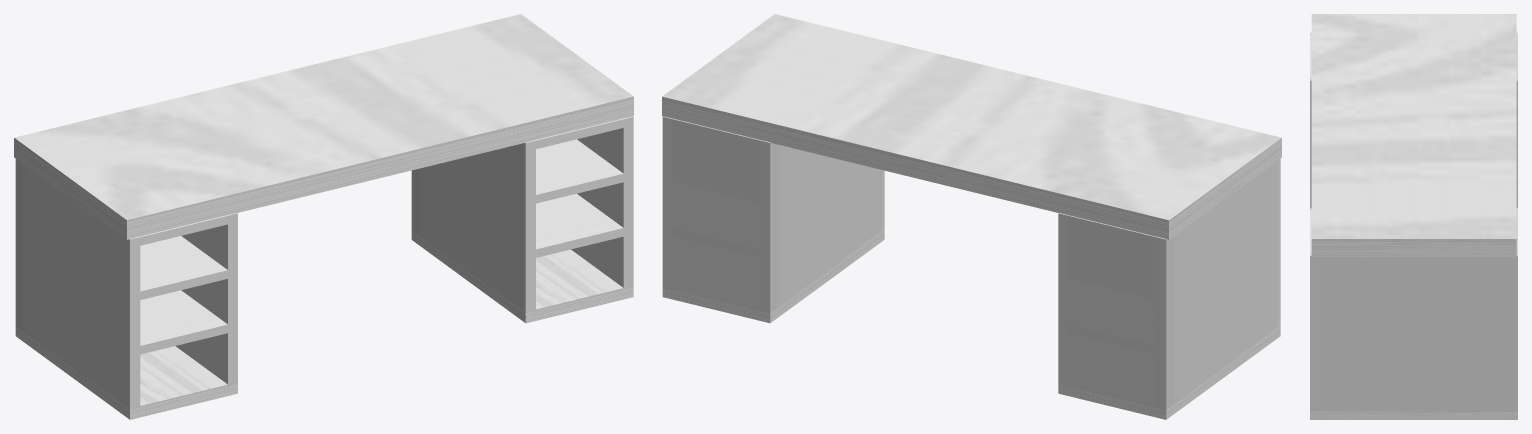
Rendered from çalışma masası.fbx.
3 views of the same model, side by side, from view 1: azimuth 30°, elevation 25°; view 2: azimuth 150°, elevation 25°; view 3: azimuth 270°, elevation 25° (orthographic). The views are drawn at different scales.
Visible parts, largest first — view 1: Cube.018; view 2: Cube.018; view 3: Cube.018.
Boxes of the visible parts, box(x1,y1,x2,y2) form: Cube.018: box(14, 14, 633, 419); Cube.018: box(662, 14, 1281, 419); Cube.018: box(1310, 14, 1517, 419).
Size of the model in its own units: 76.87 by 28.93 by 30.02.
